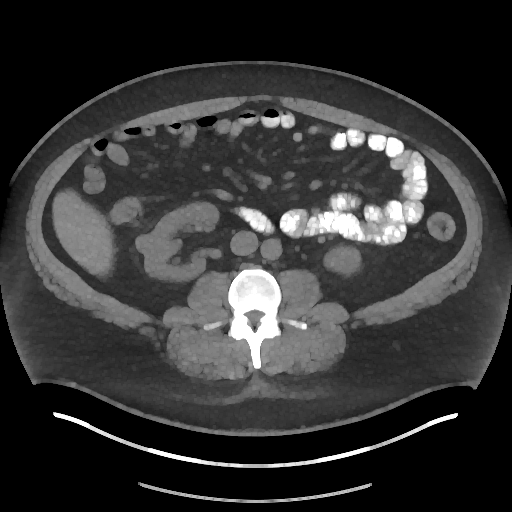Lesion: (133, 232, 155, 257)
